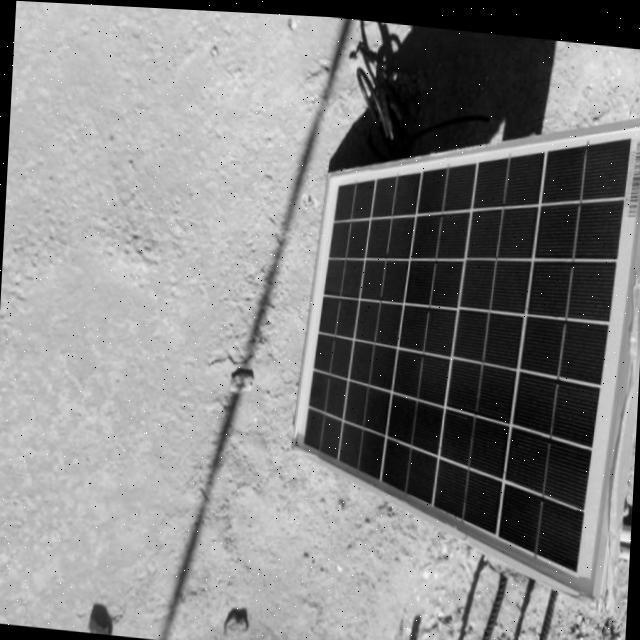Normal Solar Panel: (285, 82, 640, 606)
